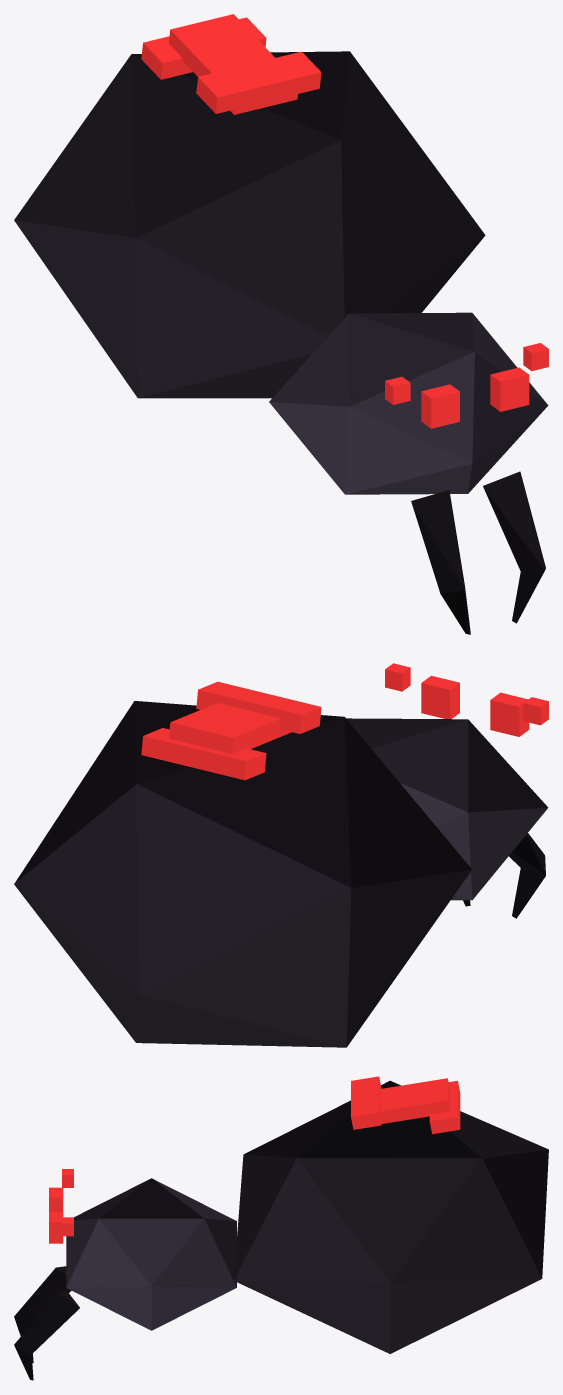
Rendered from dk_mob_spider.glb.
3 views of the same model, one above another, from view 1: azimuth 30°, elevation 25°; view 2: azimuth 150°, elevation 25°; view 3: azimuth 270°, elevation 25° (orthographic). The views are drawn at different scales.
Visible parts, largest first — view 1: dk_mob_spider; view 2: dk_mob_spider; view 3: dk_mob_spider.
Boxes of the visible parts, <box> form: dk_mob_spider: <box>14,14,548,634</box>; dk_mob_spider: <box>14,663,548,1047</box>; dk_mob_spider: <box>14,1076,548,1380</box>.
Bounding box in the file's own units: 1.18 × 1.31 × 2.24.
Materials: 2 (2 with a texture image).
